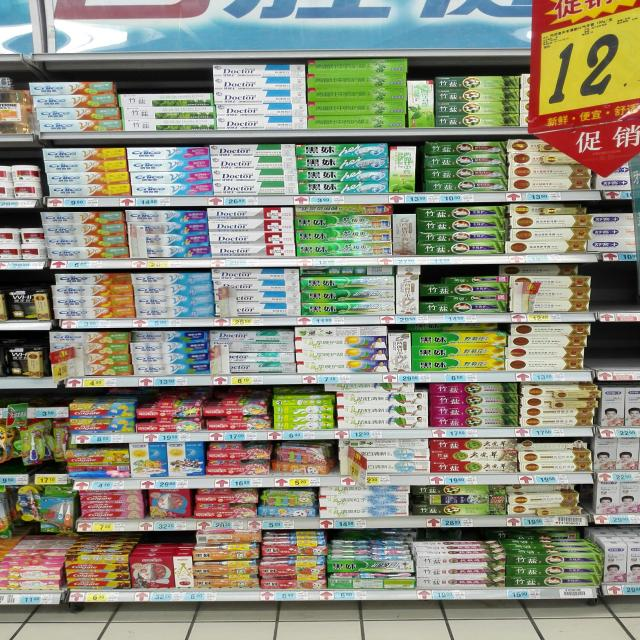unorganised: (508, 487, 585, 512), (501, 262, 586, 276), (509, 202, 589, 214), (130, 330, 210, 342)
